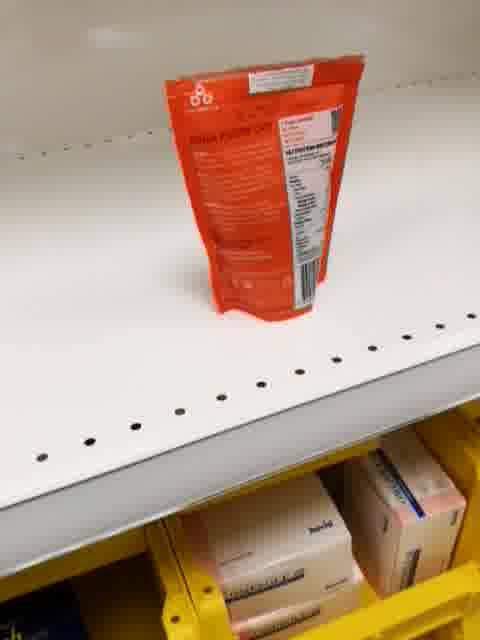whitechia: (164, 50, 367, 323)
